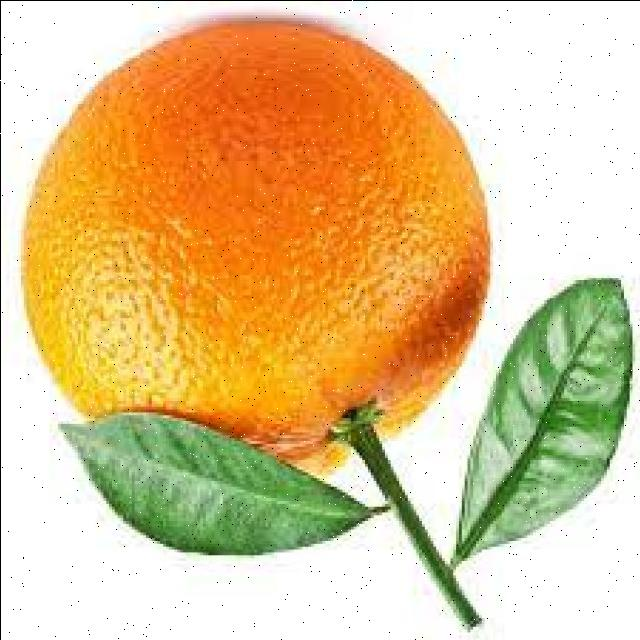Orange: (19, 19, 492, 481)
